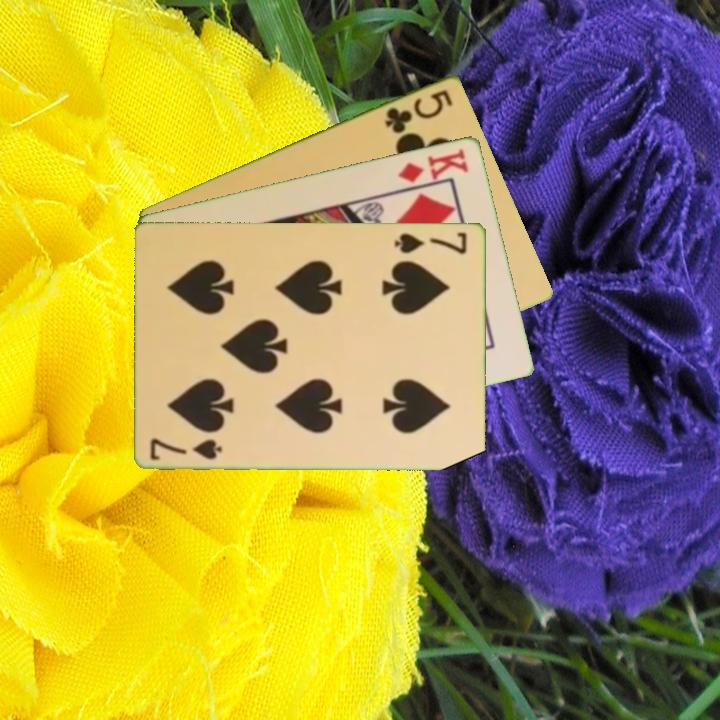5c: (381, 85, 456, 136)
7s: (392, 228, 470, 256), (147, 434, 225, 462)
Kd: (394, 145, 472, 185)
